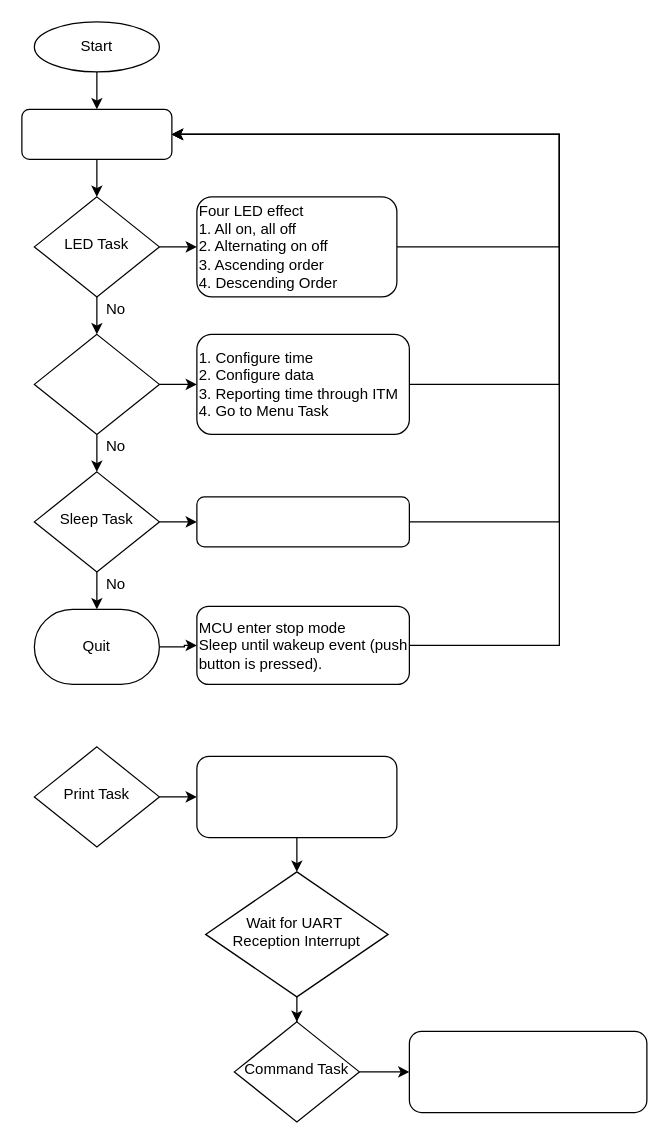
This 669x1144 diagram has some shape labels left out. The centre of each missing label's shape, as x and y in pixels:
"MCU enter stop mode Sleep until any interrupt occur." goes at (302,521).
"Menu Task" goes at (96,133).
"Print in serial monitor depends on machine state" goes at (296,796).
"Process the command receive. Control the state of the machine." goes at (527,1071).
"RTC Task" goes at (96,383).
